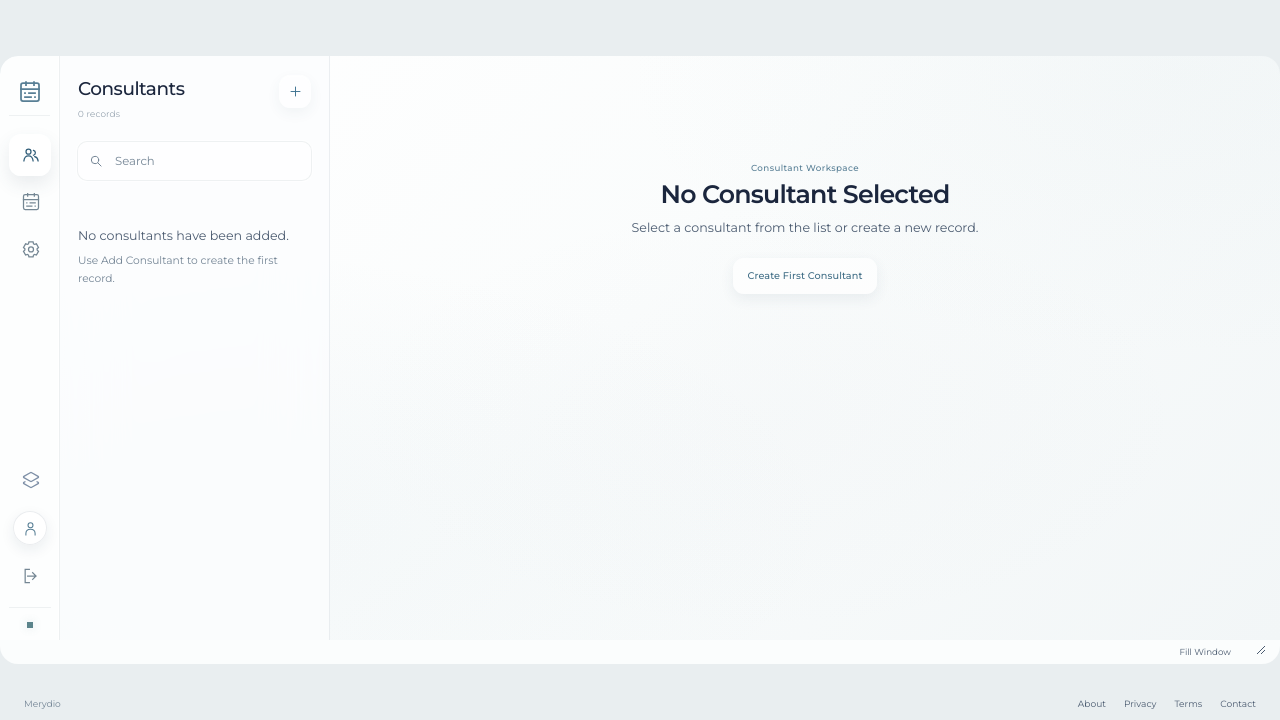
Scenario: account recovery screens › lets an authenticated account request an email change with its password
Click the button named "Account" at (30, 528), box [13,511,47,545]
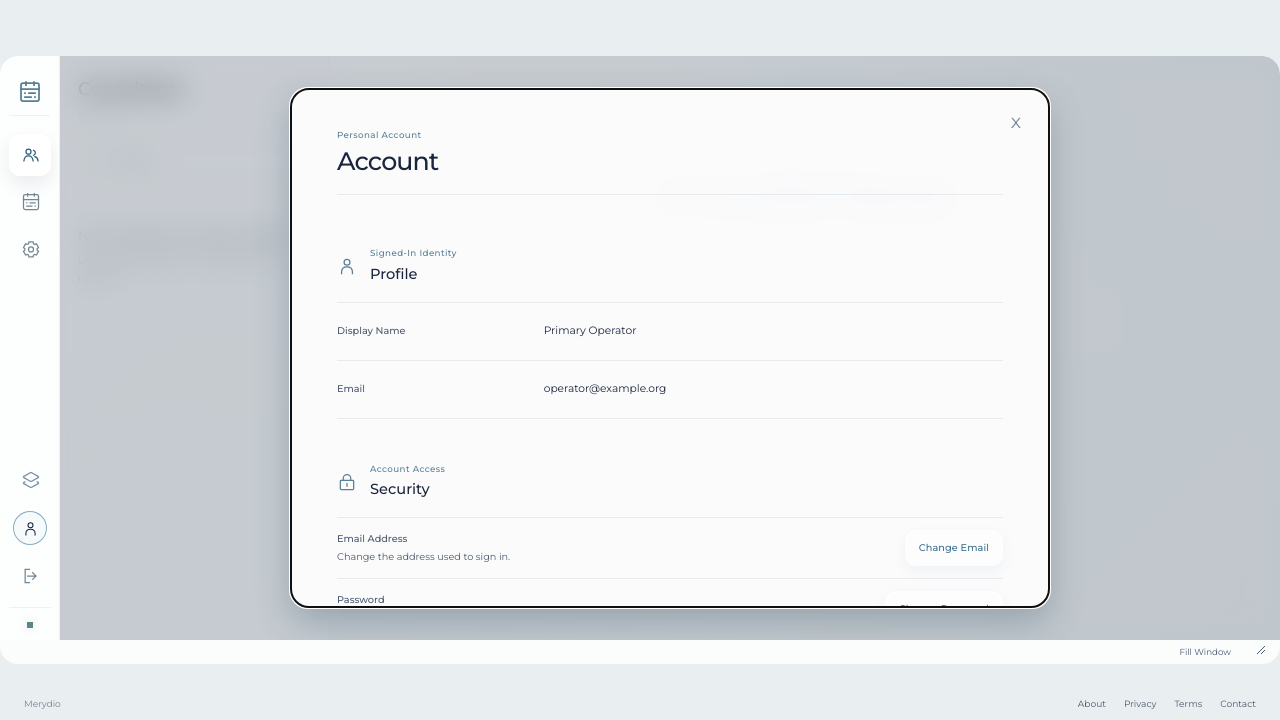
Now the heading "Account" is shown, box [337,146,438,176]
Now the text "Primary Operator" is shown, box [544,324,636,336]
Click the button "Change Email" at (954, 548), box [905,530,1003,566]
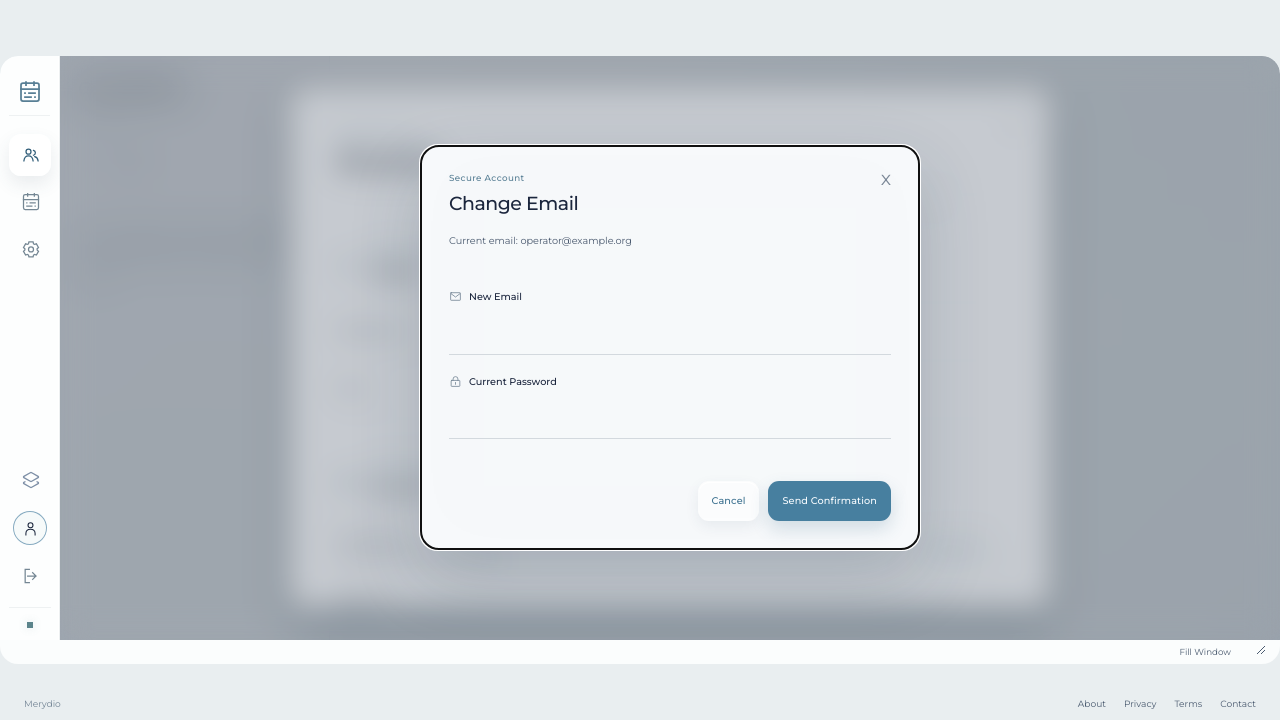
Now the text "Current email: operator@example.org" is shown, box [449,235,632,246]
Type "new@example.org" into the field labelled "New Email" at (670, 333), box [449,311,891,355]
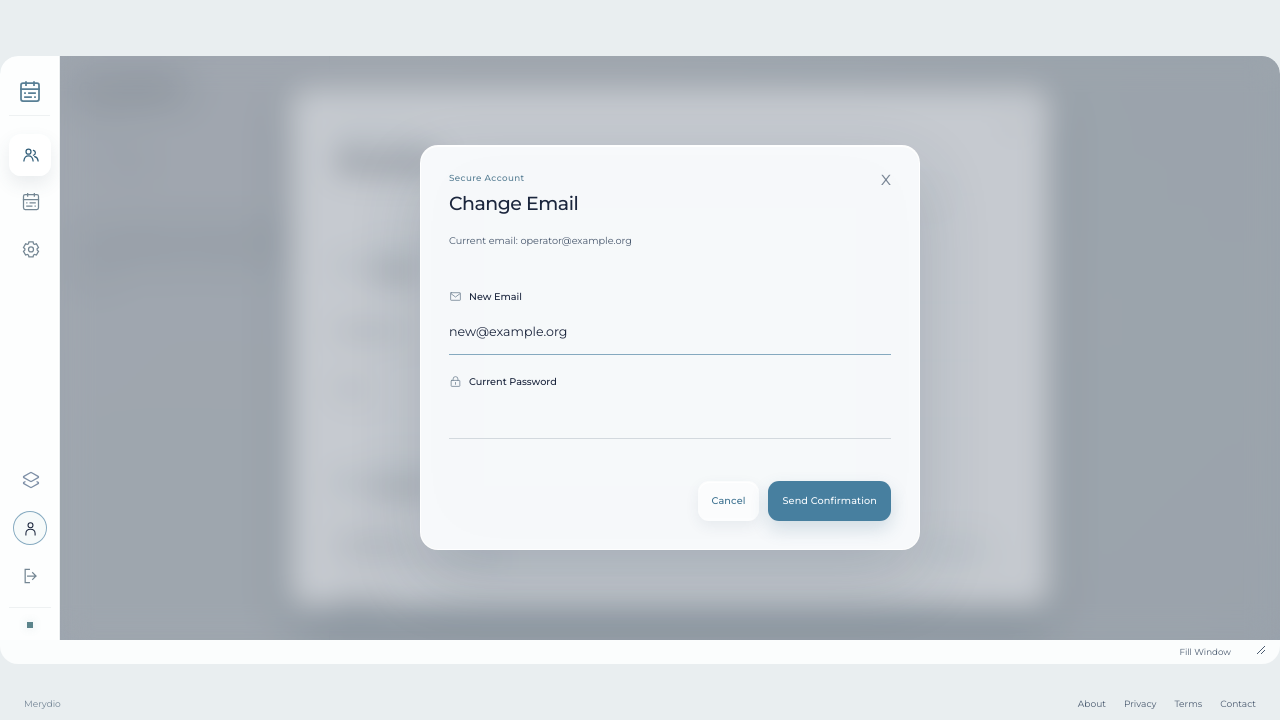
Type "current-password" into the password field labelled "Current Password" at (670, 418), box [449,396,891,440]
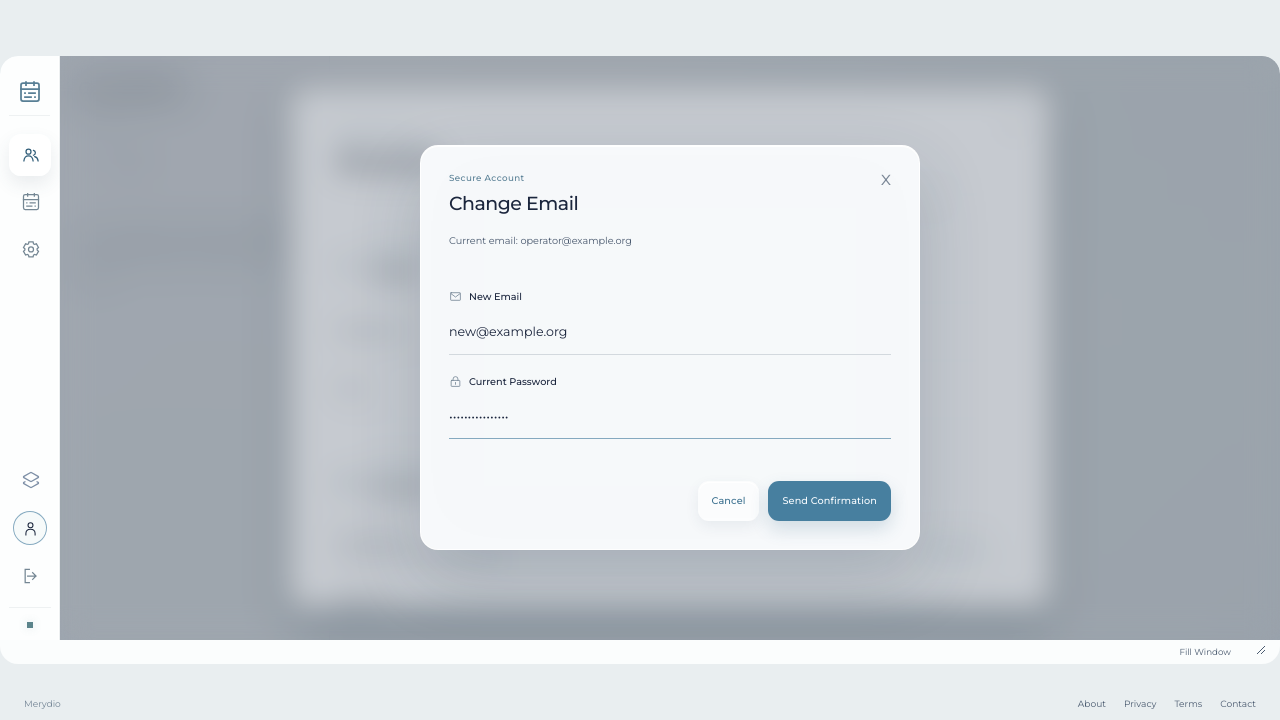
Click the button "Send Confirmation" at (830, 502), box [768,482,891,522]
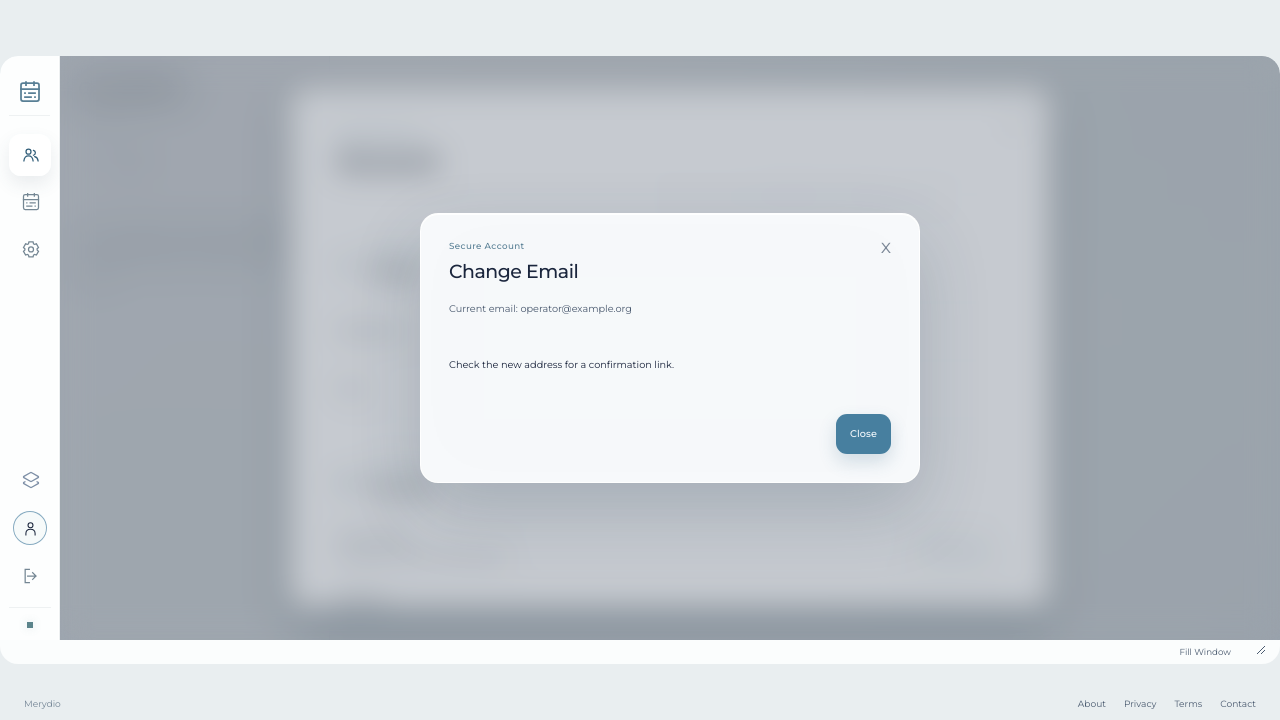
Now the text "Check the new address for a confirmation link." is shown, box [449,359,674,370]
